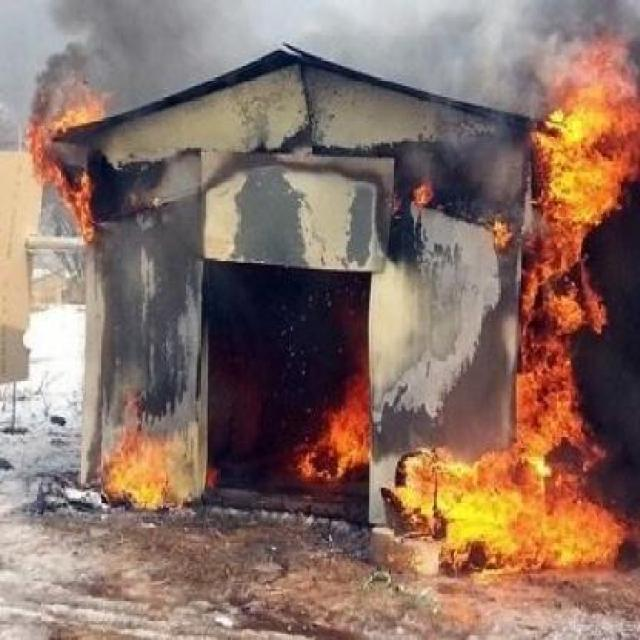Fire: (363, 59, 640, 596), (262, 249, 392, 531), (85, 338, 229, 531), (23, 68, 145, 240), (374, 125, 456, 242), (471, 182, 518, 282)
Smoke: (6, 5, 640, 184)
